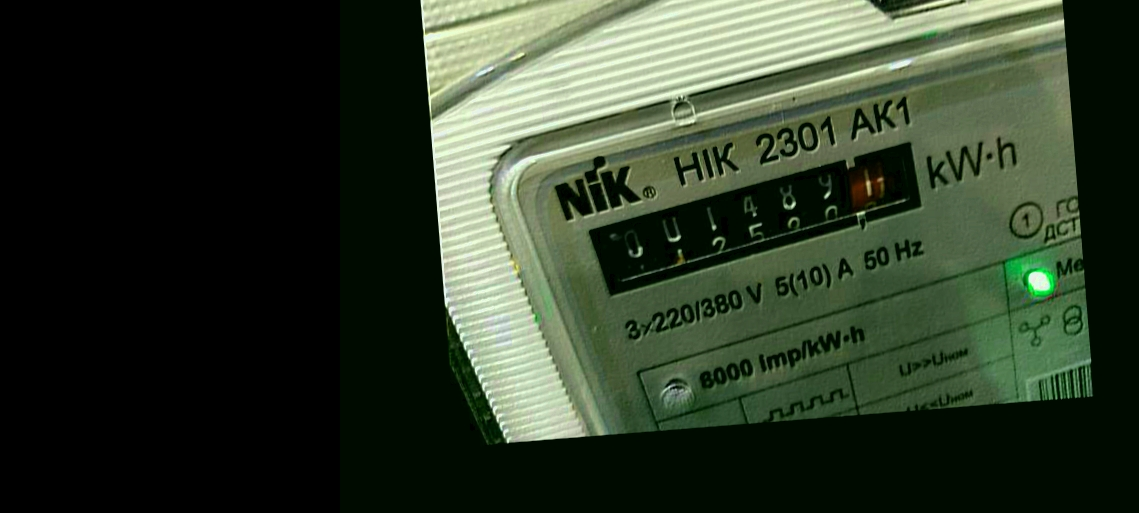0: (657, 208, 686, 246), (621, 225, 647, 262)
1: (857, 161, 879, 200), (701, 201, 723, 234)
4: (738, 188, 762, 221)
8: (777, 177, 801, 215)
9: (816, 168, 838, 201)
screen: (572, 129, 958, 309)
